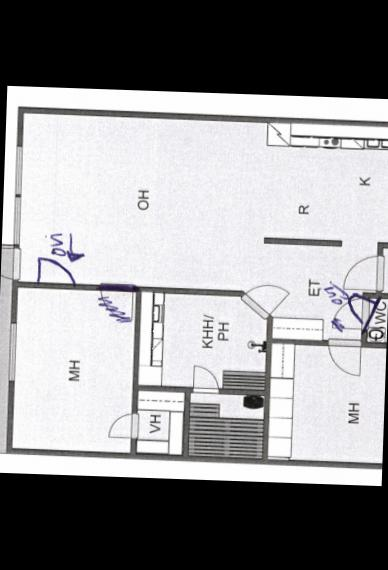door: (238, 276, 292, 324), (339, 250, 388, 293), (322, 334, 364, 378), (34, 254, 78, 292), (106, 407, 140, 441), (190, 362, 222, 395), (0, 243, 24, 283)
window: (3, 315, 22, 385), (10, 140, 28, 196), (8, 194, 26, 247)
